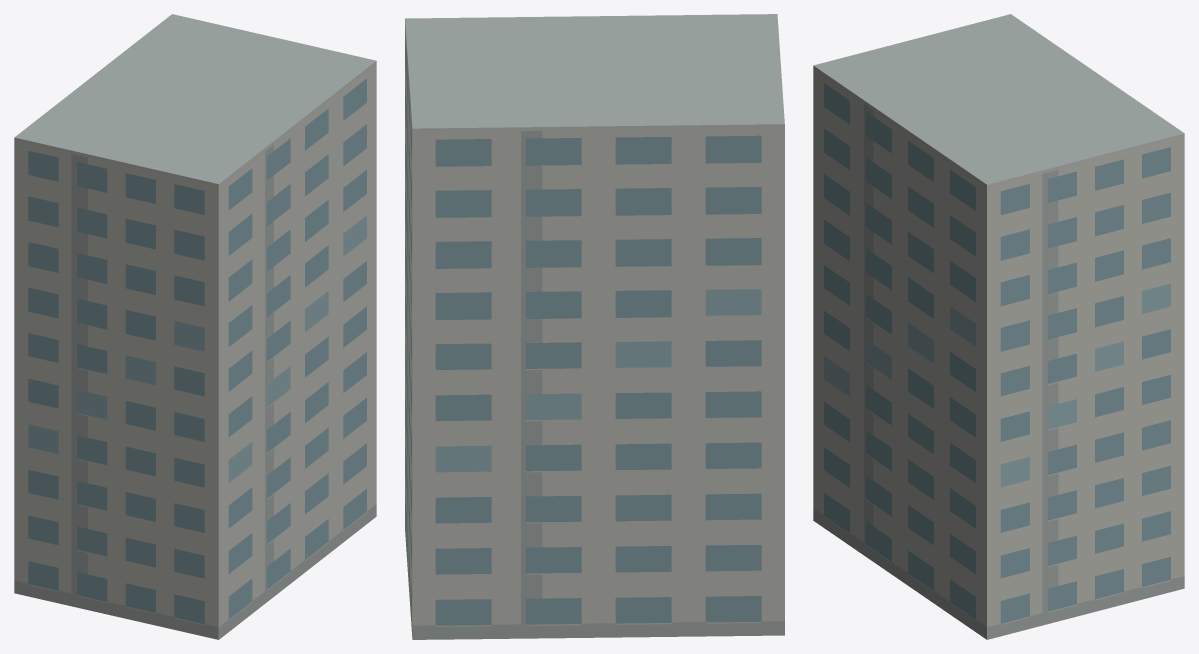
File: residential-0b2b04c3-3b98-4fe9-8525-86e493d4aec9.glb
3 renders of one model, left to right at view 1: azimuth 30°, elevation 25°; view 2: azimuth 150°, elevation 25°; view 3: azimuth 270°, elevation 25°, orthographic. The views are drawn at different scales.
Visible parts, largest first — view 1: residential-0b2b04c3-3b98-4fe9-8525-86e493d4aec9.tmp; view 2: residential-0b2b04c3-3b98-4fe9-8525-86e493d4aec9.tmp; view 3: residential-0b2b04c3-3b98-4fe9-8525-86e493d4aec9.tmp.
Part boxes in pixels (x1,y1,x2,y2): residential-0b2b04c3-3b98-4fe9-8525-86e493d4aec9.tmp: (14,14,376,639); residential-0b2b04c3-3b98-4fe9-8525-86e493d4aec9.tmp: (405,14,784,639); residential-0b2b04c3-3b98-4fe9-8525-86e493d4aec9.tmp: (813,14,1184,639).
Size of the model in its own units: 25.75 by 32 by 23.68.
